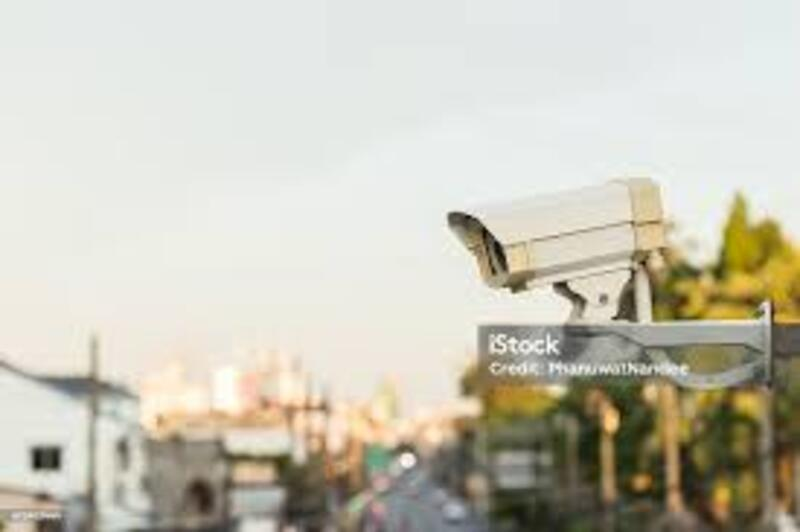box: (437, 220, 672, 317)
